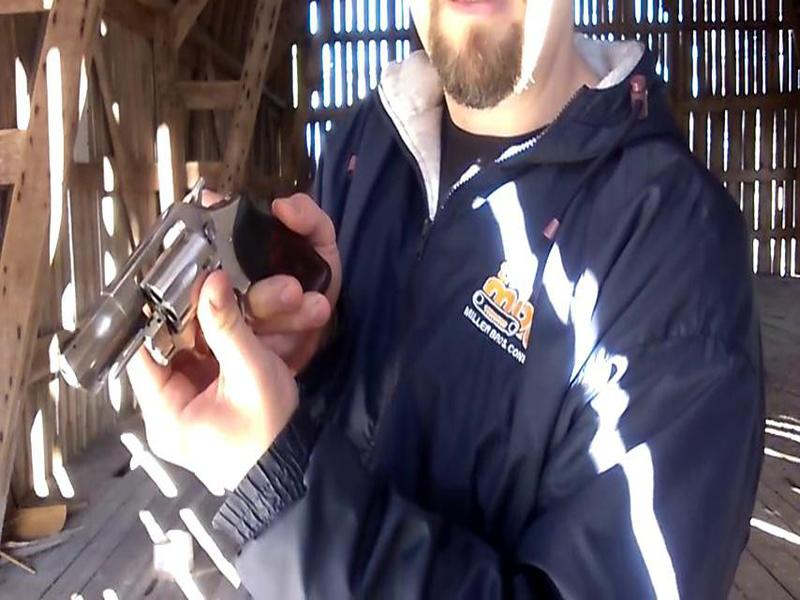Revolver: (47, 189, 337, 427)
